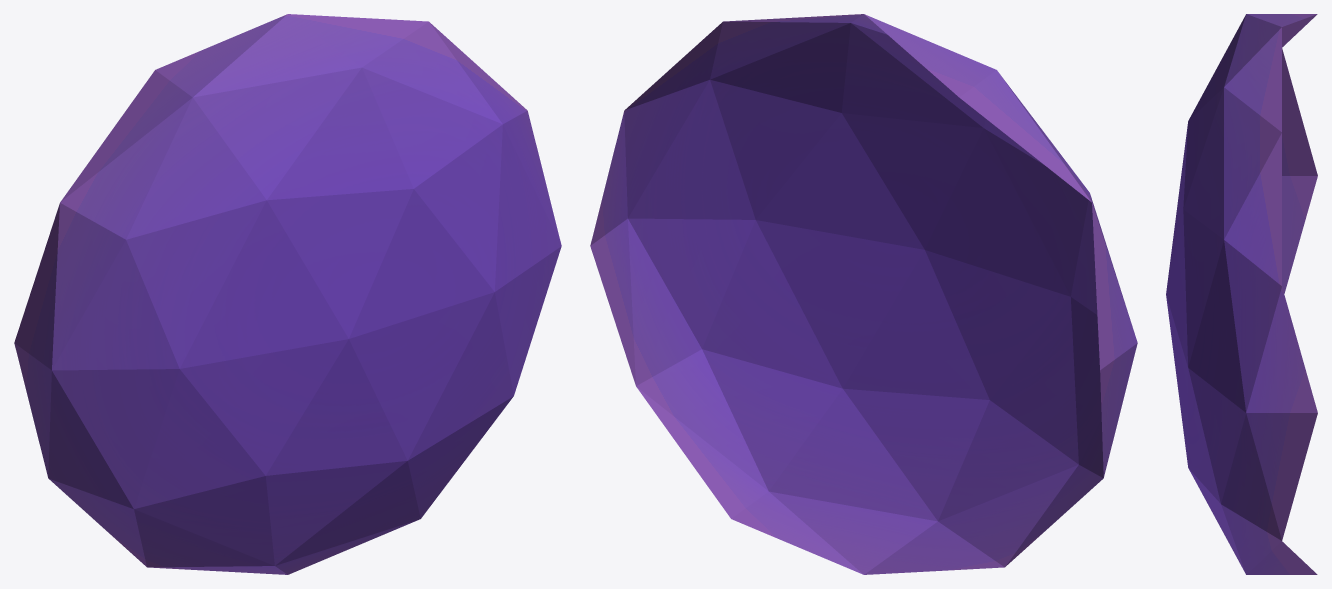
The model's file is force shield.fbx.
3 renders of one model, left to right at view 1: azimuth 30°, elevation 25°; view 2: azimuth 150°, elevation 25°; view 3: azimuth 270°, elevation 25°, orthographic. The views are drawn at different scales.
Parts seen in each view (by area): view 1: Icosphere; view 2: Icosphere; view 3: Icosphere.
Boxes of the visible parts, box(x1,y1,x2,y2) form: Icosphere: box(14, 14, 561, 574); Icosphere: box(590, 14, 1137, 574); Icosphere: box(1166, 14, 1317, 574).
Size of the model in its own units: 242 by 255 by 65.58.
